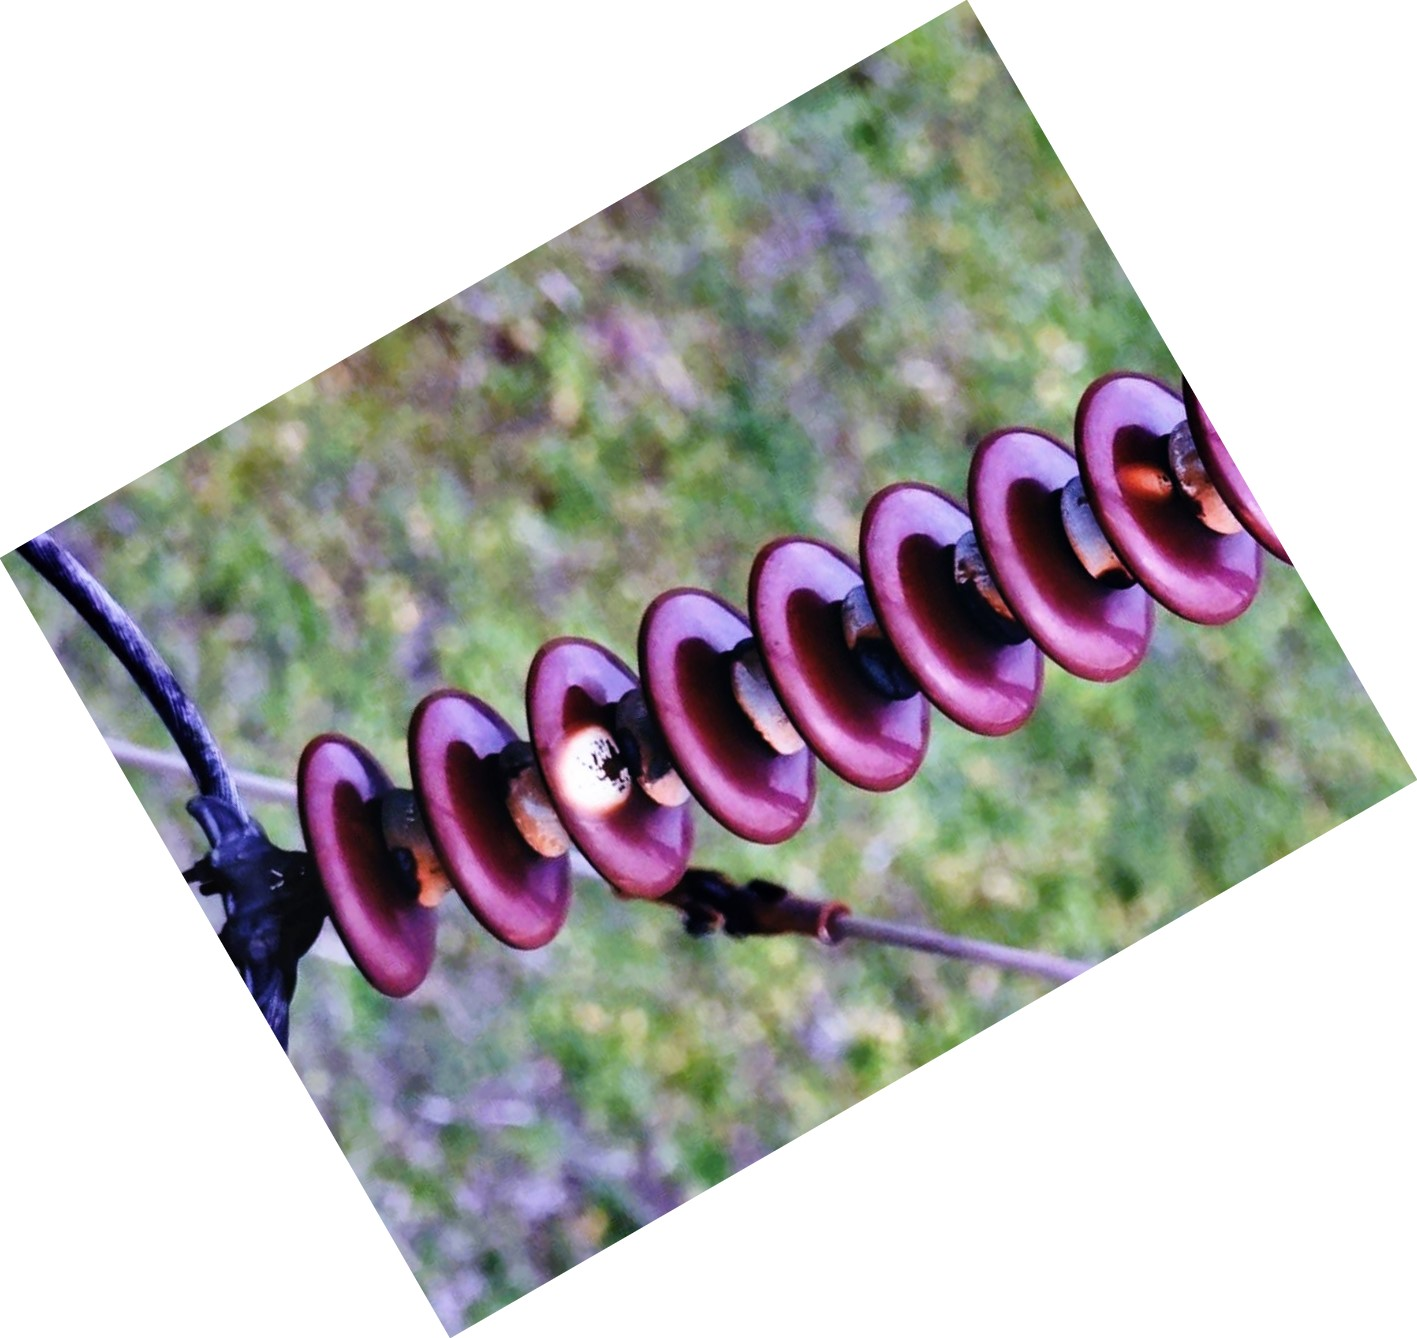Insulator flashover: (509, 621, 715, 905)
